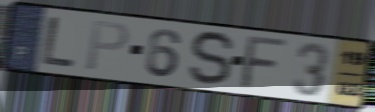3: (291, 40, 331, 99)
6: (145, 27, 183, 79)
F: (237, 34, 292, 91)
L: (39, 15, 78, 69)
P: (84, 19, 131, 73)
S: (187, 29, 237, 88)
